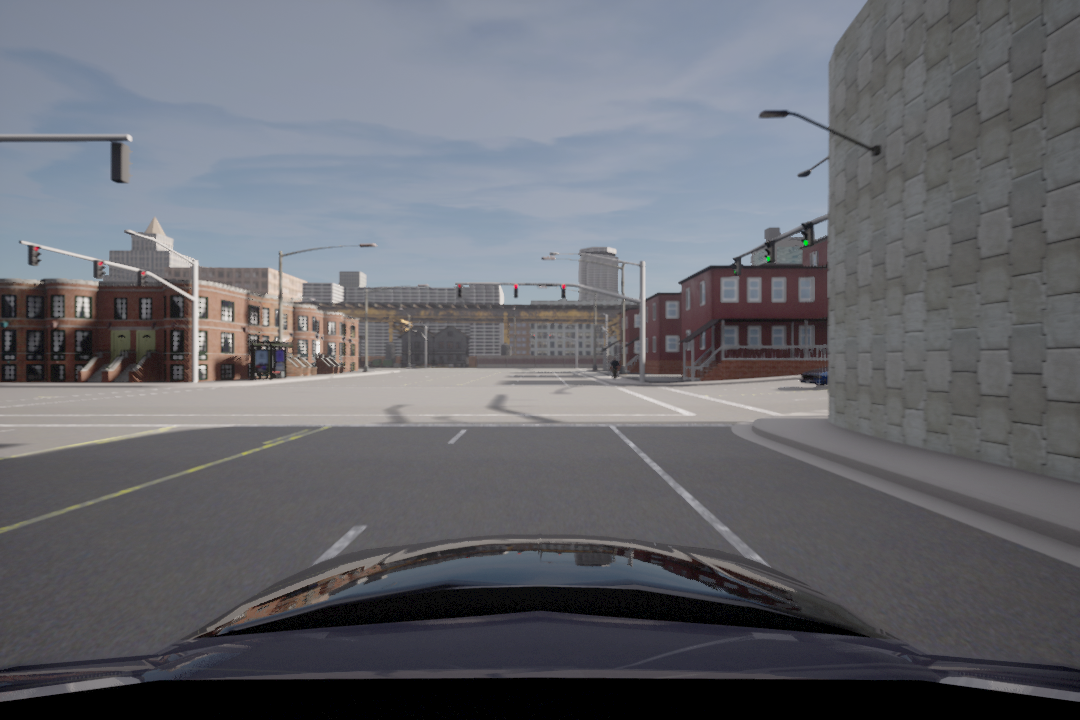TrafficLight: (797, 222, 817, 249), (27, 246, 44, 270), (763, 240, 778, 267), (90, 259, 105, 281), (135, 269, 147, 289), (732, 257, 743, 274), (512, 284, 523, 300), (560, 283, 567, 301), (455, 283, 462, 297)
